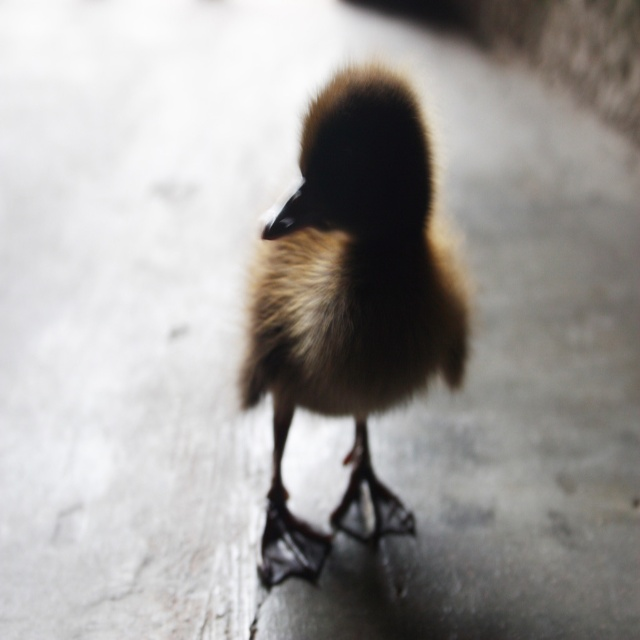Duck: (236, 45, 475, 579)
